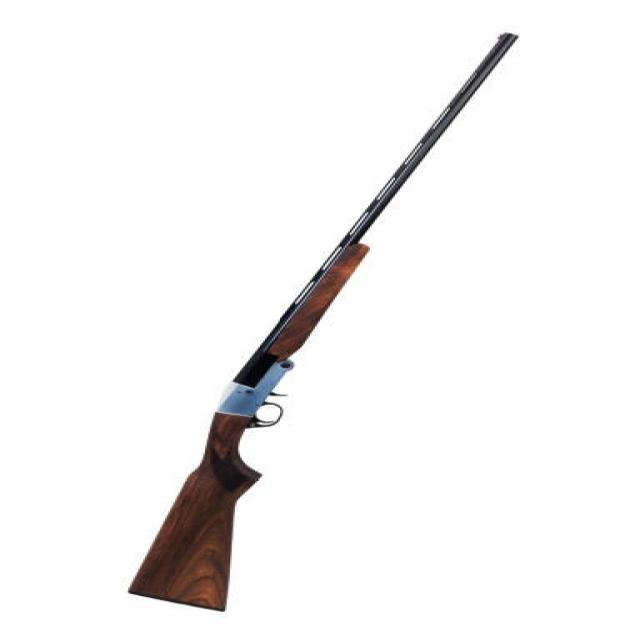rifle: (118, 13, 537, 616)
